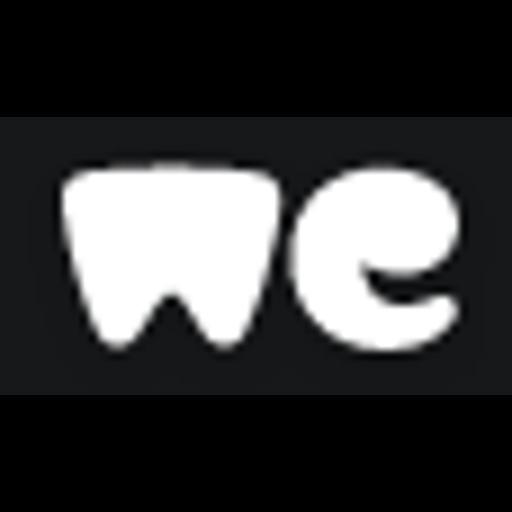WeTransfer: (0, 117, 512, 395)
